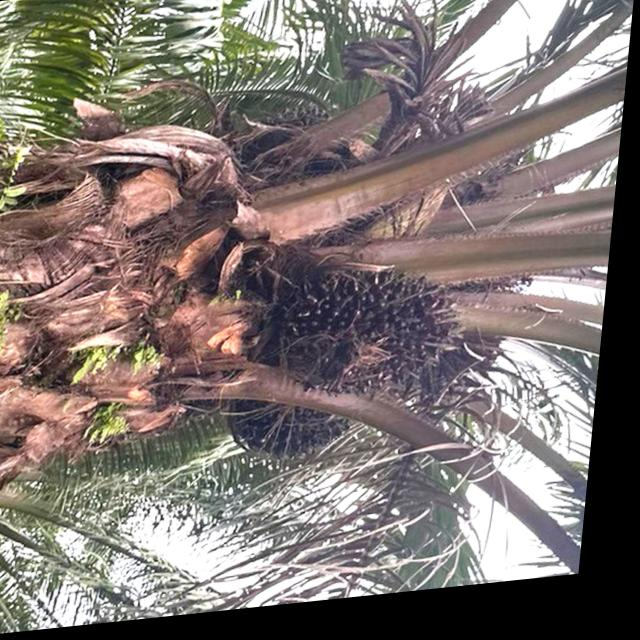ripe: (276, 259, 480, 407), (243, 376, 382, 475)
